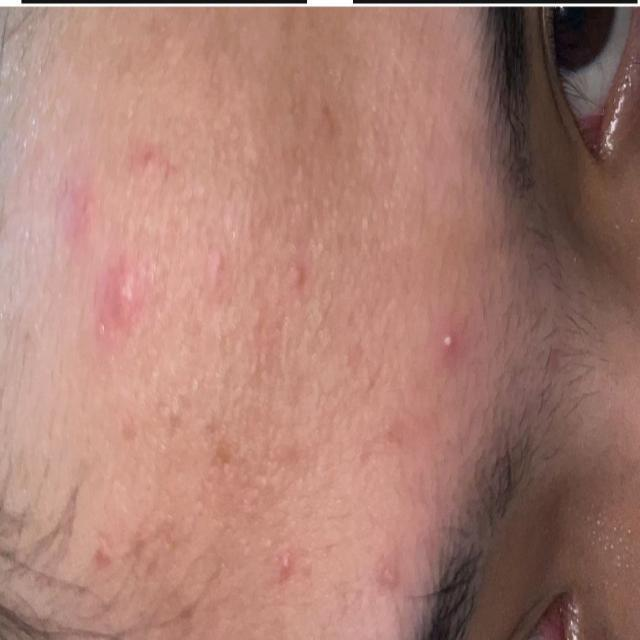papule: (36, 132, 182, 373)
pustule: (422, 321, 478, 373), (263, 536, 314, 591)
